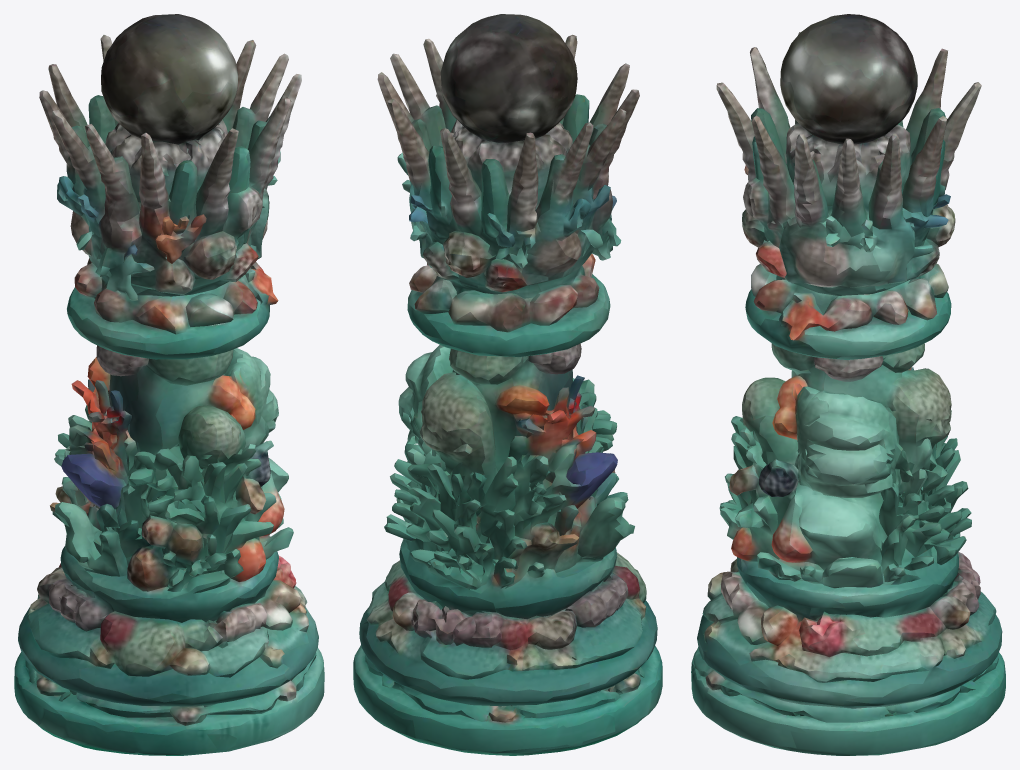
3 views of the same model, side by side, from view 1: azimuth 30°, elevation 25°; view 2: azimuth 150°, elevation 25°; view 3: azimuth 270°, elevation 25° (orthographic).
Visible parts, largest first — view 1: world; view 2: world; view 3: world.
Part boxes in pixels (x1,y1,x2,y2): world: (14,14,324,755); world: (353,14,662,755); world: (691,14,1005,755).
Size of the model in its own units: 0.0754 by 0.1799 by 0.076.
1 material, 1 textured.
